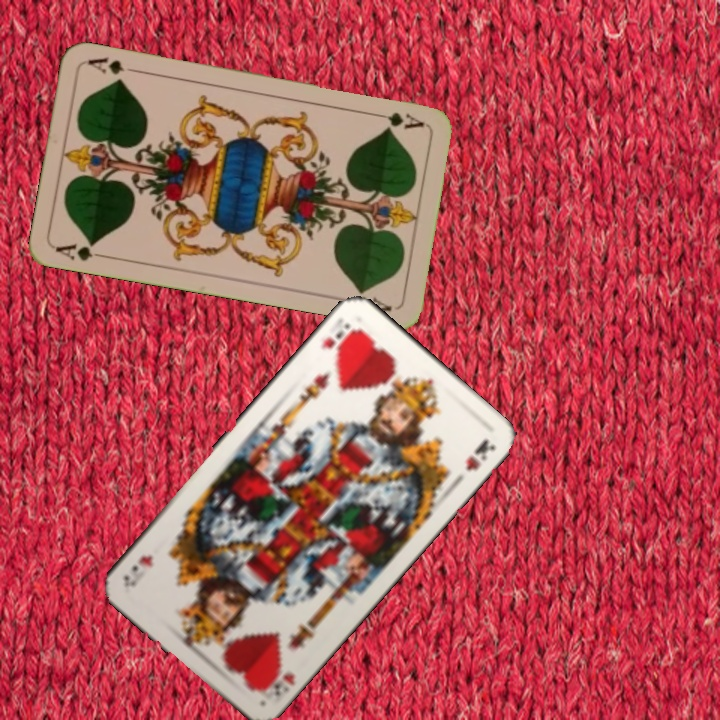GA: (52, 238, 111, 264), (370, 108, 427, 132)
HK: (316, 319, 361, 359), (255, 660, 298, 699)
